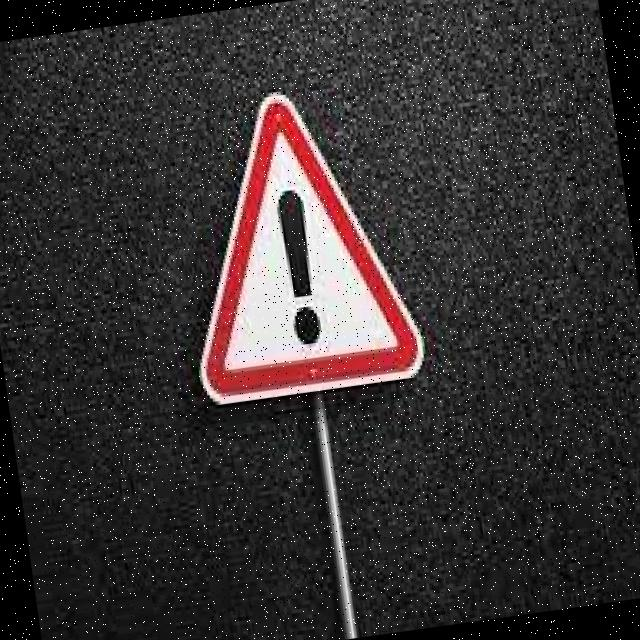warning: (162, 76, 433, 422)
